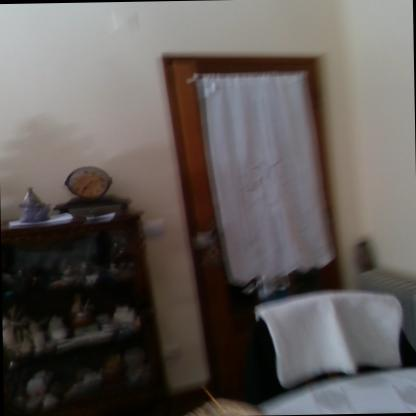closed: (166, 44, 353, 400)
